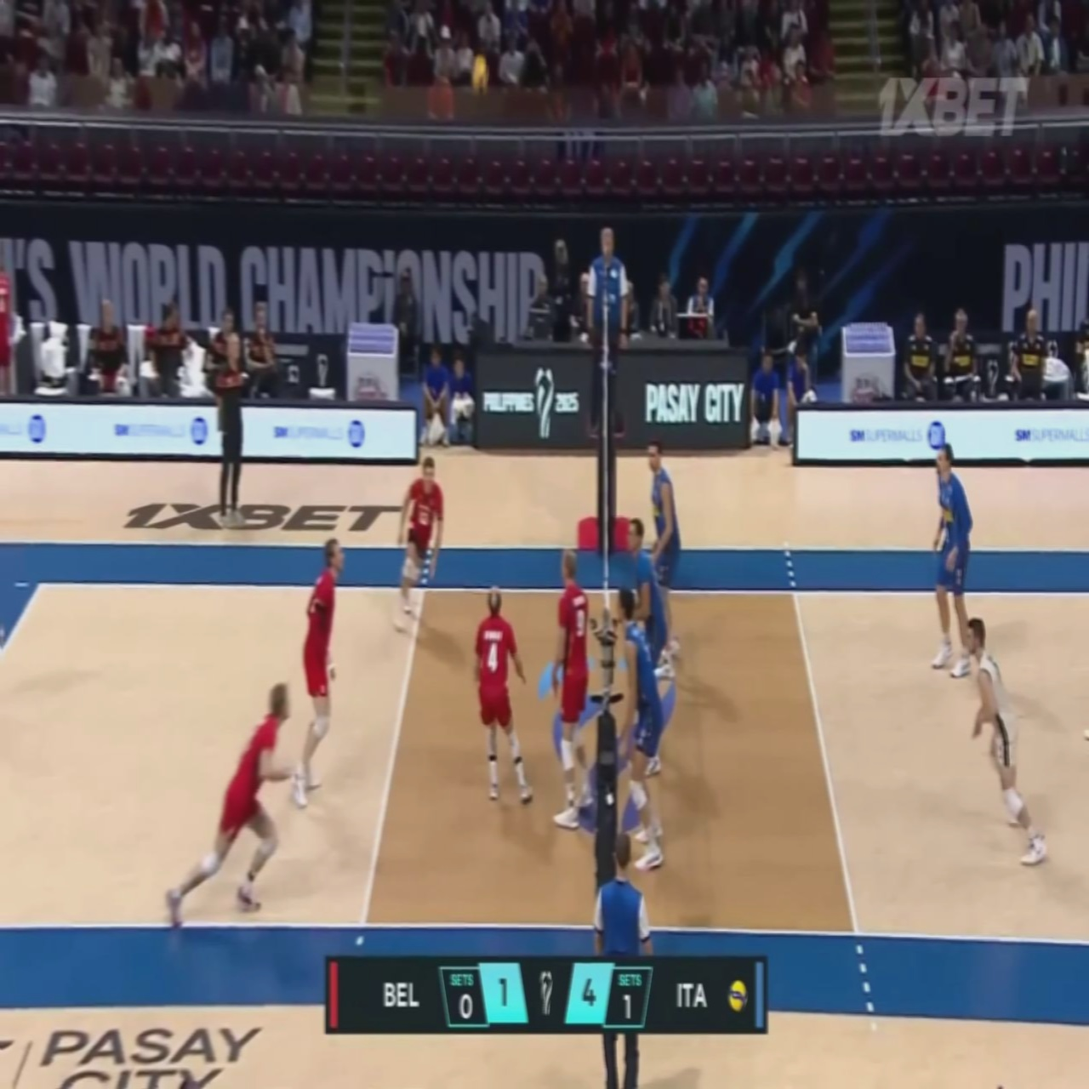ball: (470, 56, 489, 96)
